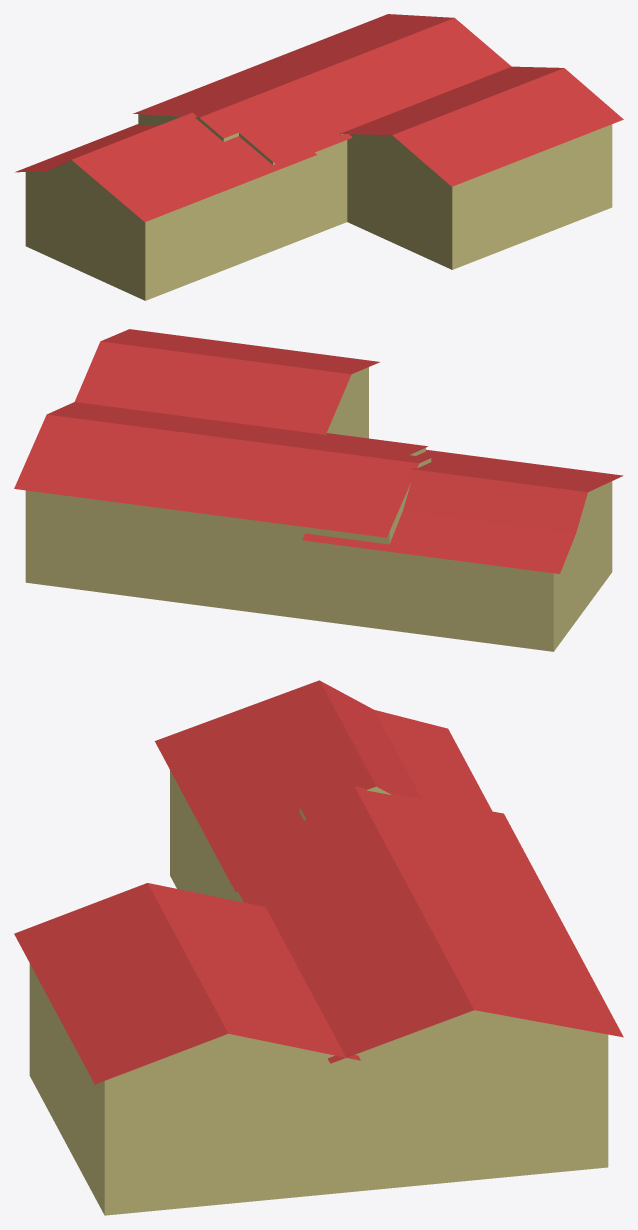
The picture shows the model from 3 angles, top to bottom: view 1: azimuth 30°, elevation 25°; view 2: azimuth 150°, elevation 25°; view 3: azimuth 270°, elevation 25°; orthographic projection. The views are drawn at different scales.
Size of the model in its own units: 51.79 by 35.27 by 11.21.
